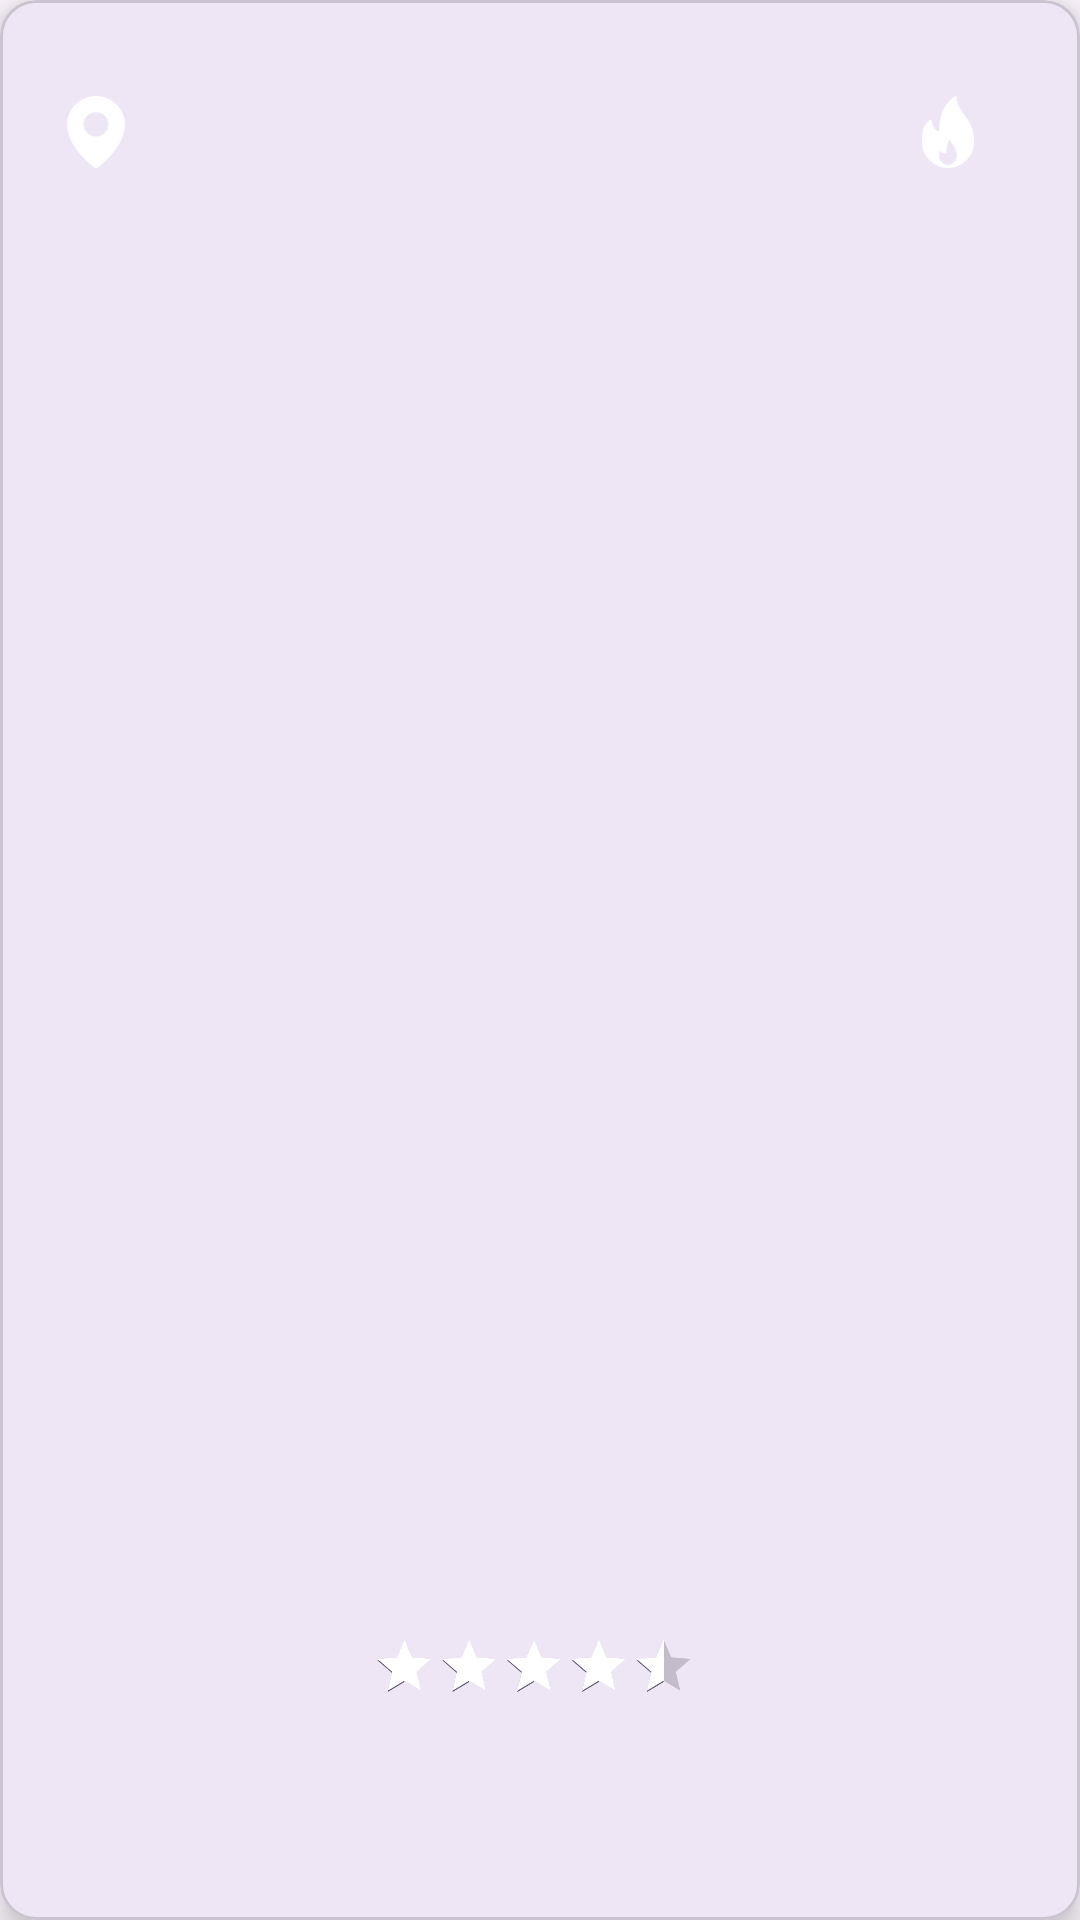

Screen size 1080x1920. Icon name, then its box in pixels as (x1, y1, x2, y2):
fire shape: (922, 97, 974, 168)
location shape: (67, 96, 125, 167)
